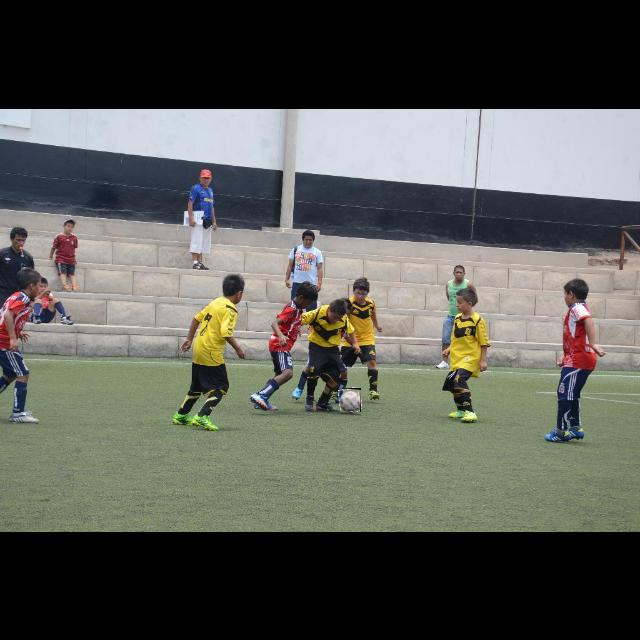Football: (339, 388, 361, 412)
